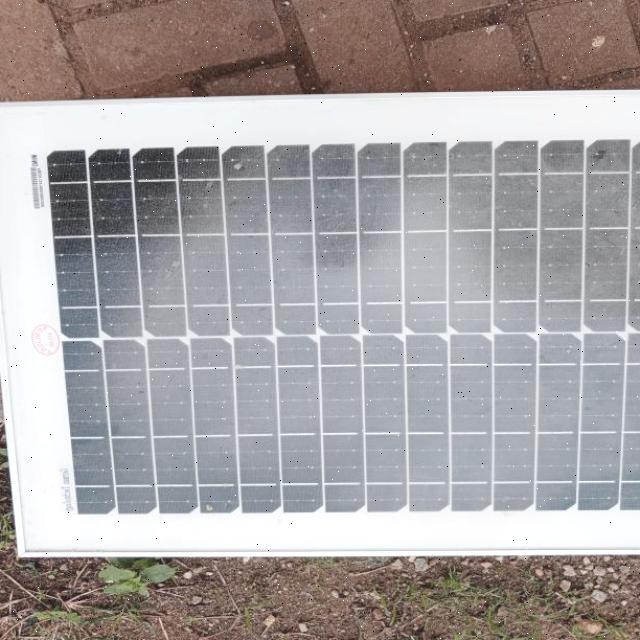Anomaly Solar Panel: (62, 120, 640, 542)
Surface Contaminant: (63, 119, 640, 542)
